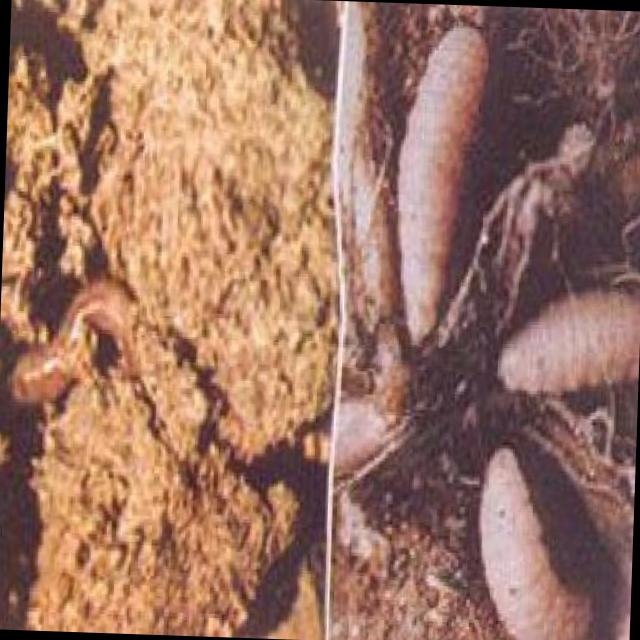whorl-maggot: (392, 25, 497, 353), (482, 444, 593, 640), (495, 282, 640, 400)
